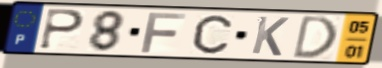8: (87, 9, 127, 54)
C: (191, 14, 234, 56)
D: (290, 14, 340, 61)
F: (138, 11, 189, 55)
K: (249, 15, 291, 58)
P: (37, 7, 87, 52)
